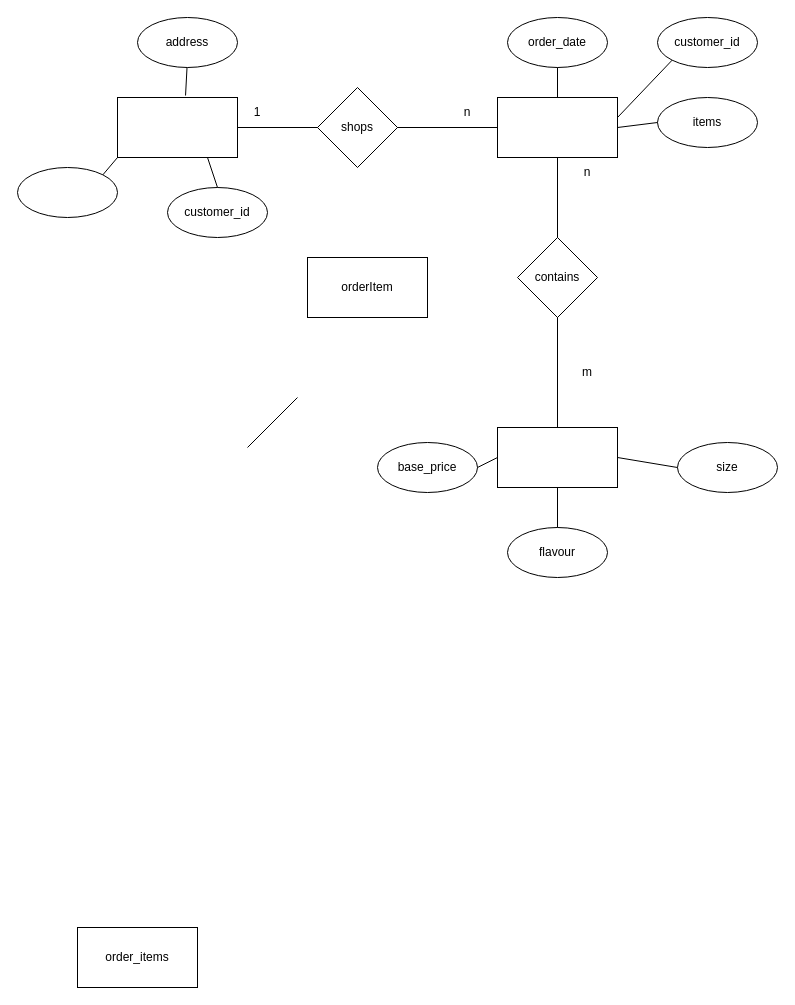
This 795x1005 diagram has some shape labels left out. The shapes that lost their labels are listed below. From the top down, each one's centre as x and y in pixels, then its label:
At point 177,127: "customers".
At point 557,127: "orders".
At point 67,192: "name".
At point 557,457: "products".
